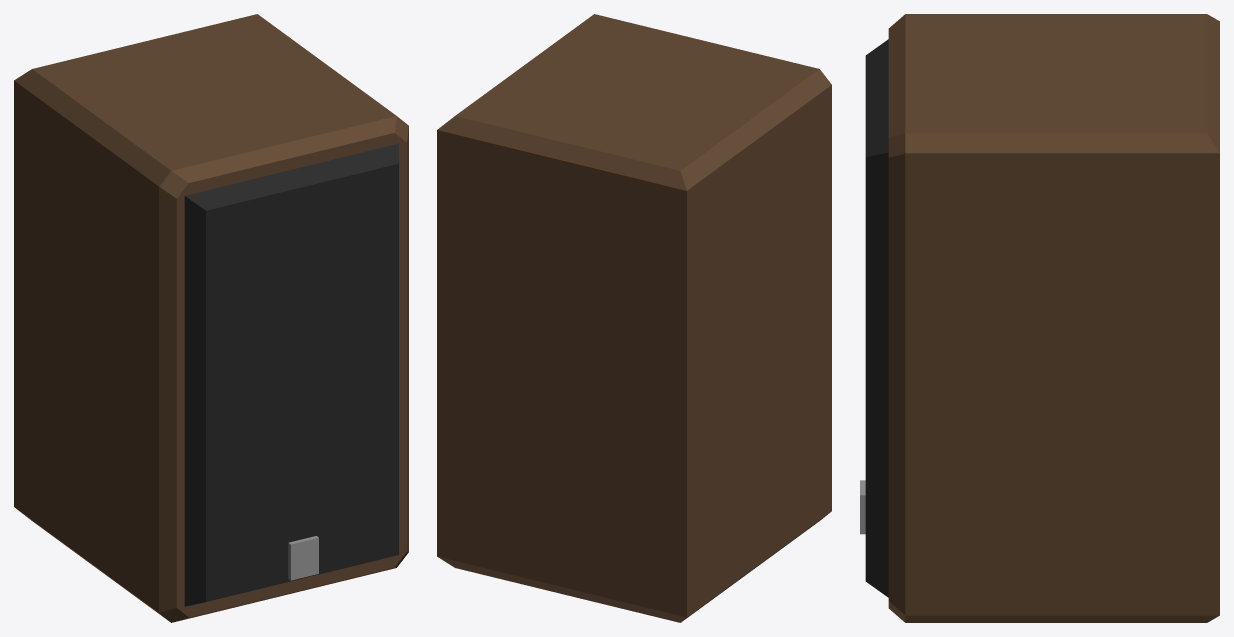
Rendered from YMH8900b.FBX.
3 renders of one model, left to right at view 1: azimuth 30°, elevation 25°; view 2: azimuth 150°, elevation 25°; view 3: azimuth 270°, elevation 25°, orthographic. The views are drawn at different scales.
Visible parts, largest first — view 1: YMH8900b; view 2: YMH8900b; view 3: YMH8900b.
Boxes of the visible parts, bbox=[...] form: YMH8900b: bbox=[14, 14, 408, 622]; YMH8900b: bbox=[437, 14, 831, 622]; YMH8900b: bbox=[860, 14, 1219, 622].
Bounding box in the file's own units: 11.62 × 13.38 × 20.1.
